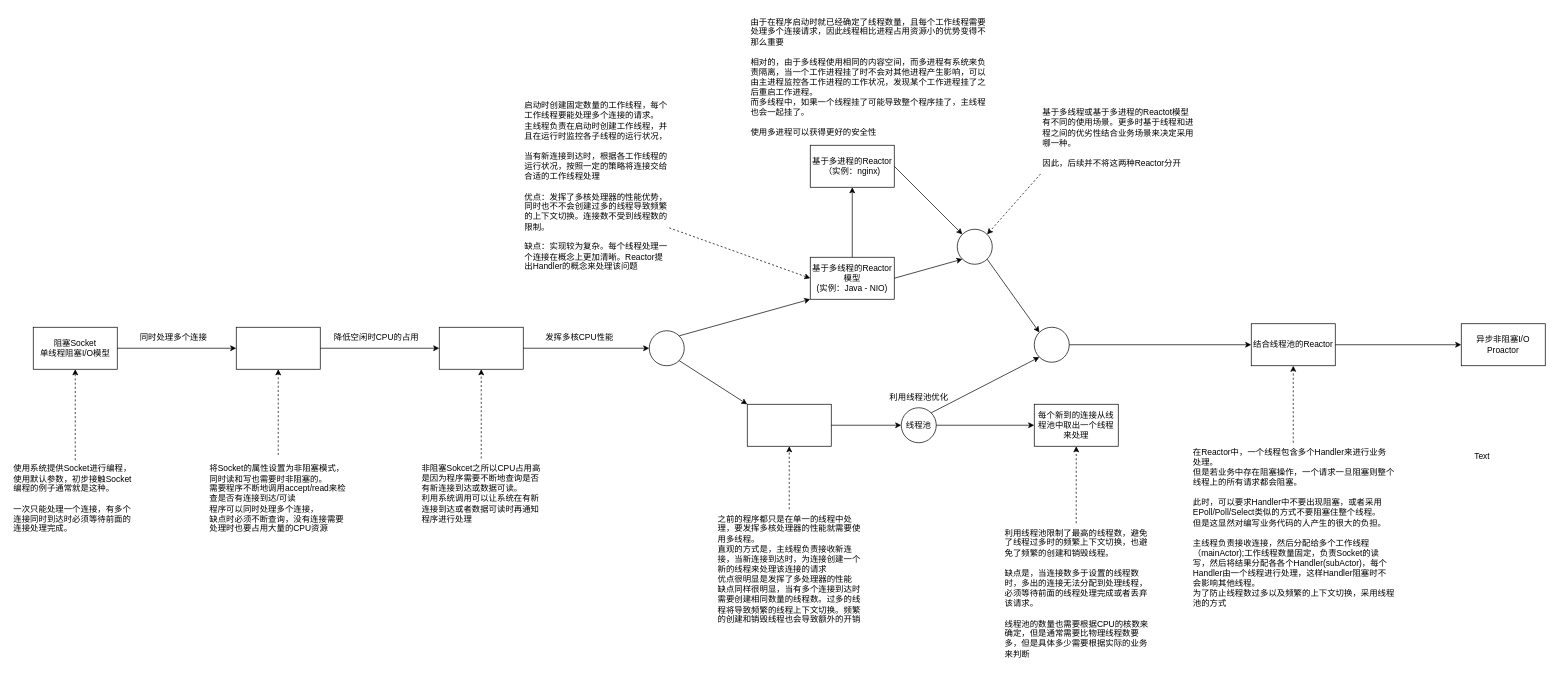
Some shapes in this 1558 by 675 pixel diagram are drawn without their labels. Here are the shapes that lost their labels. From the top down, the centre of each, then its label:
point (278, 348): 非阻塞Socket
point (481, 348): 利用系统调用EPoll/Poll/Select 单线程同步非阻塞I/O模型
point (789, 425): 为每个新到来的连接创建一个线程来处理
